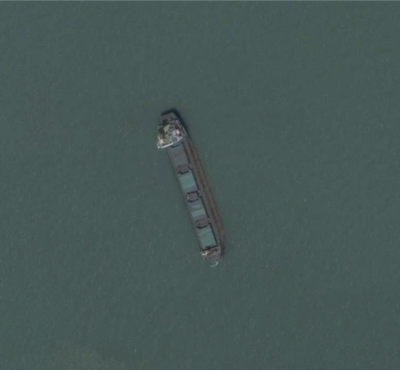boat: (157, 110, 227, 270)
